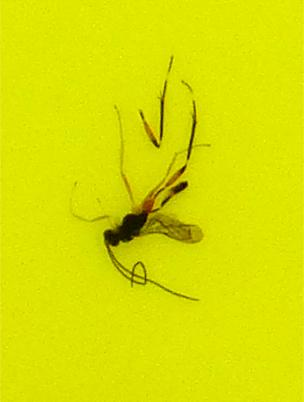Hymenoptera: (100, 100, 204, 302)
